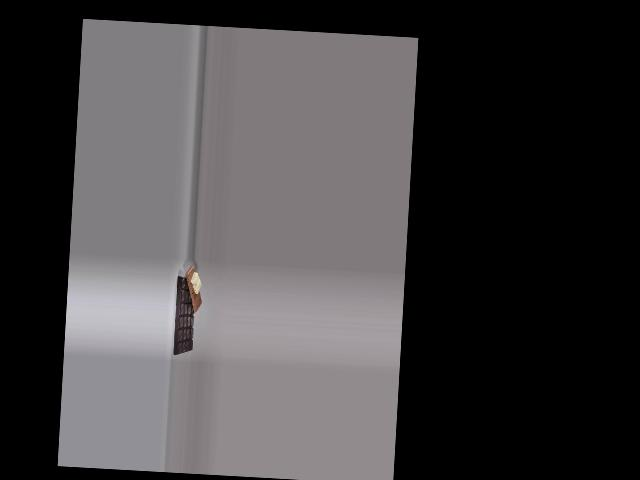chocolate: (170, 271, 199, 356)
